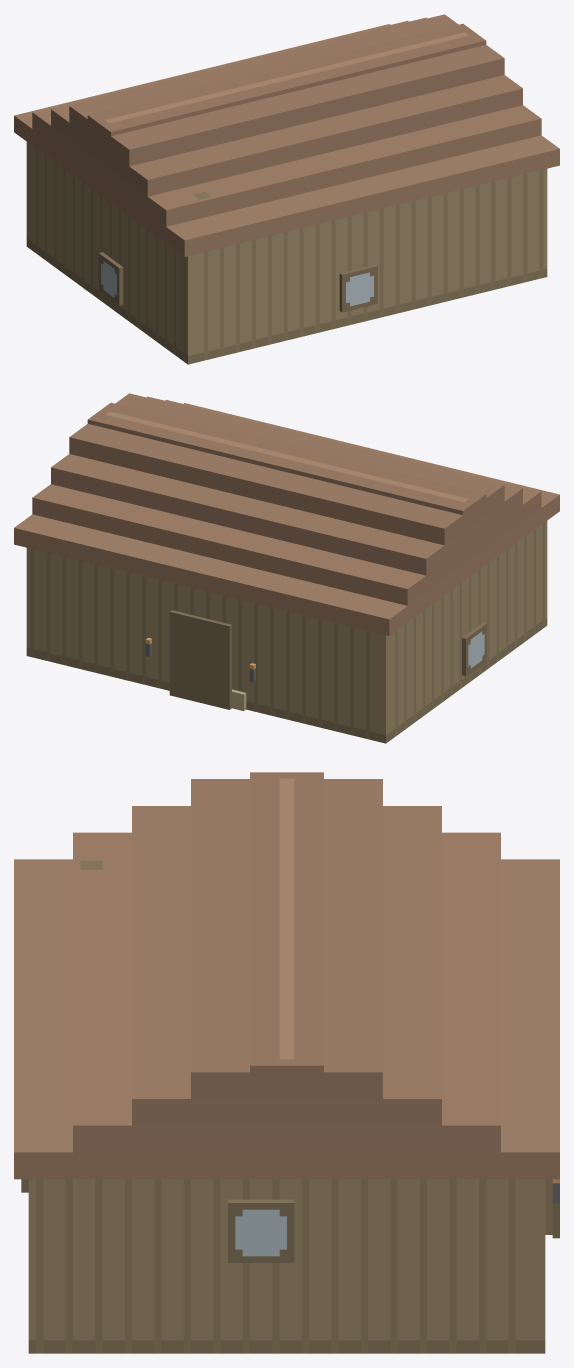
Rendered from carpinteria_01.glb.
3 renders of one model, top to bottom at view 1: azimuth 30°, elevation 25°; view 2: azimuth 150°, elevation 25°; view 3: azimuth 270°, elevation 25°, orthographic. The views are drawn at different scales.
Parts seen in each view (by area): view 1: carpinteria_01; view 2: carpinteria_01; view 3: carpinteria_01.
Boxes of the visible parts, <box> form: carpinteria_01: <box>14,14,559,364</box>; carpinteria_01: <box>14,393,559,743</box>; carpinteria_01: <box>14,772,559,1353</box>.
Bounding box in the file's own units: 9.4 × 4.4 × 7.4.
